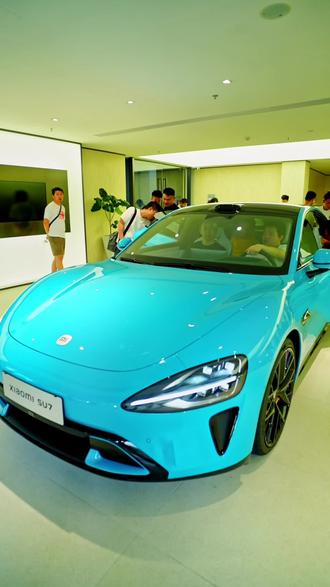su7: (5, 201, 330, 484)
